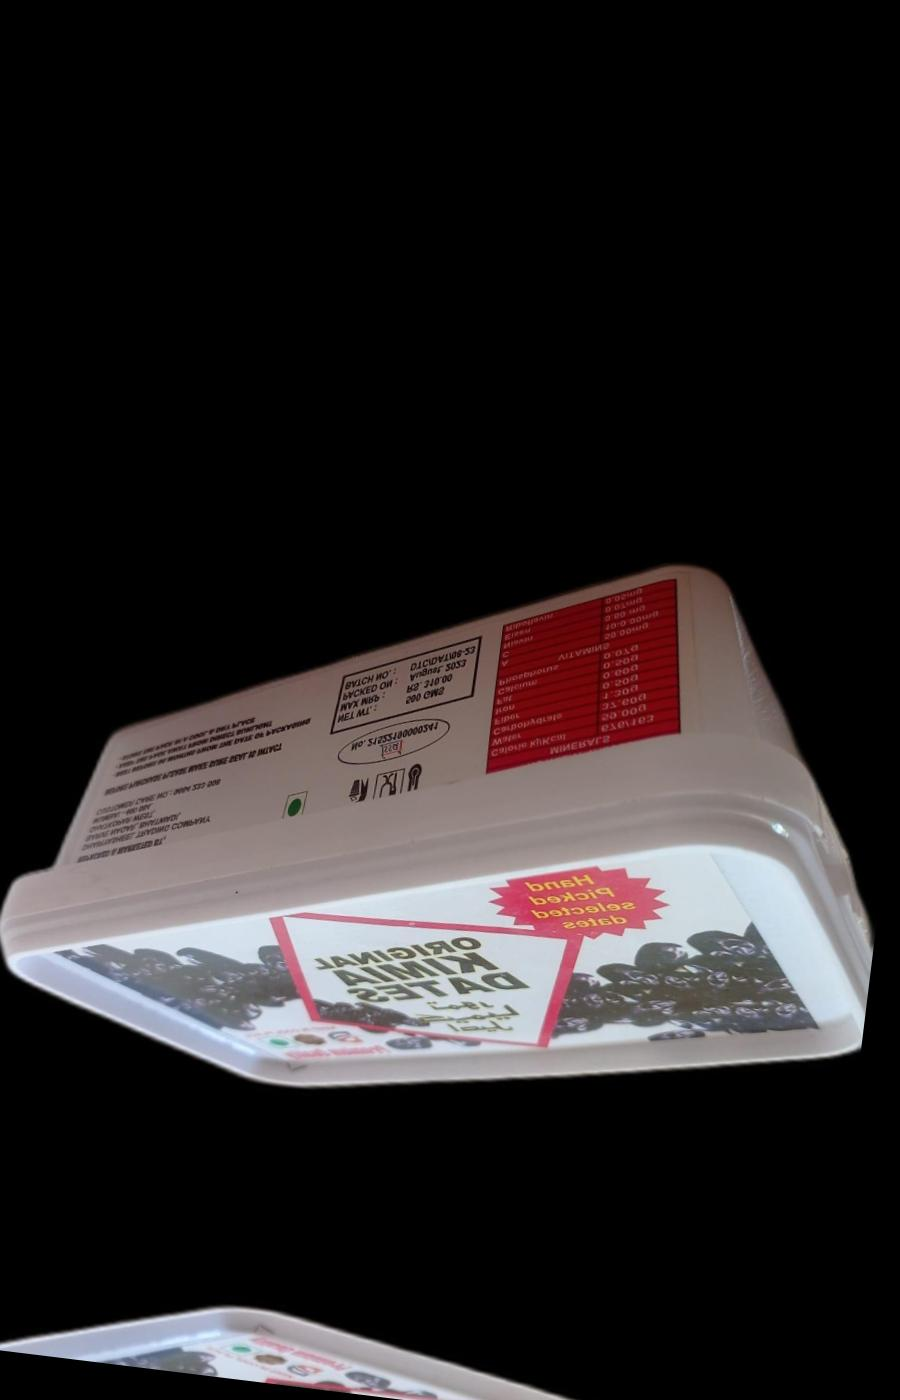Kimia Dates: (0, 487, 900, 1158)
